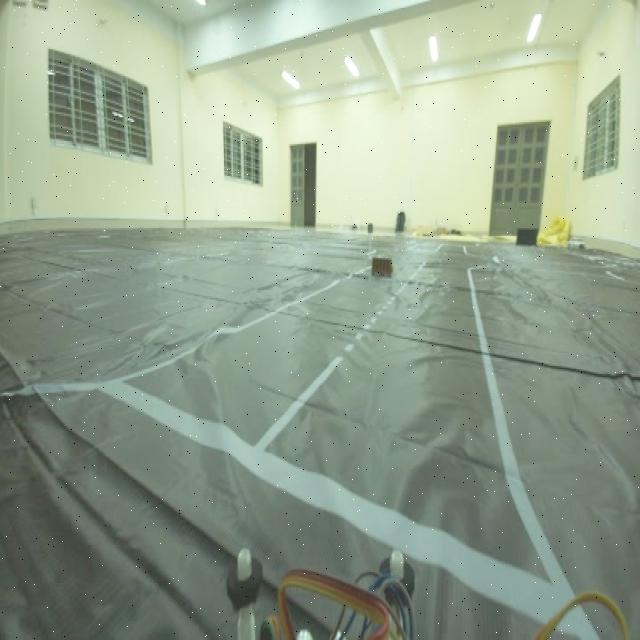roadblock: (367, 250, 395, 285)
